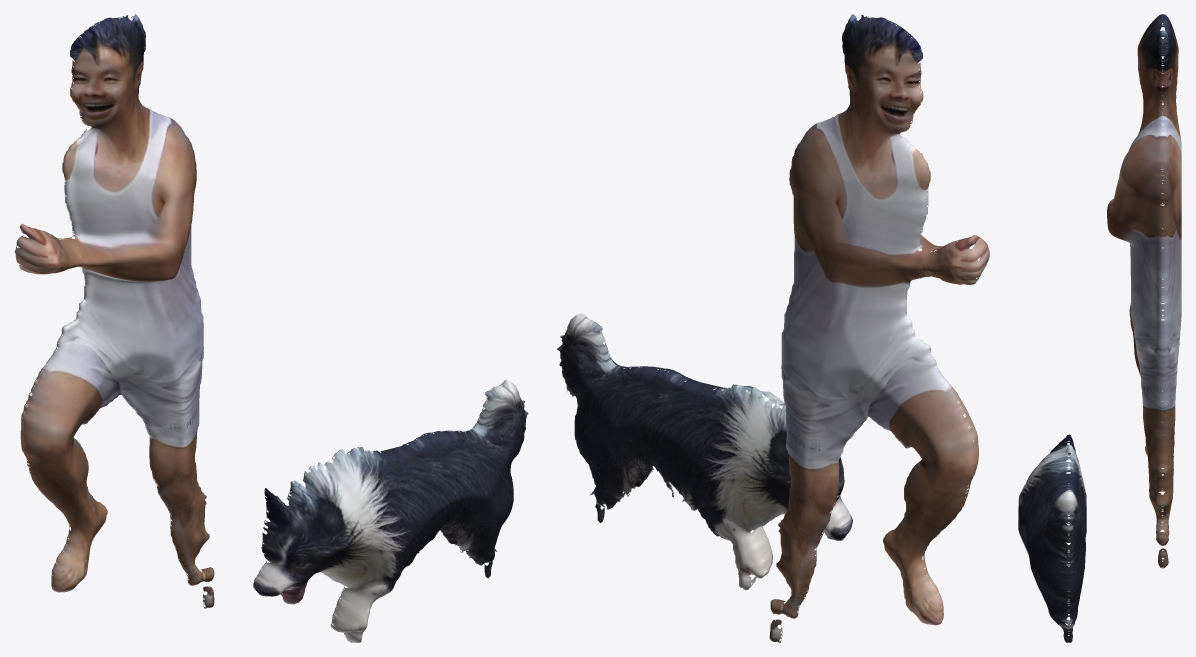
The model's file is me-and-dog.glb.
3 views of the same model, side by side, from view 1: azimuth 30°, elevation 25°; view 2: azimuth 150°, elevation 25°; view 3: azimuth 270°, elevation 25° (orthographic). The views are drawn at different scales.
Visible parts, largest first — view 1: Person, Dog; view 2: Person, Dog; view 3: Person, Dog.
Part boxes in pixels (<box>): Person: <box>14,14,214,608</box>; Dog: <box>253,380,528,642</box>; Person: <box>769,14,989,642</box>; Dog: <box>557,313,852,590</box>; Person: <box>1107,14,1181,568</box>; Dog: <box>1018,434,1086,642</box>.
Size of the model in its own units: 1.4 by 1.83 by 0.5229.
2 materials, 2 textured.
